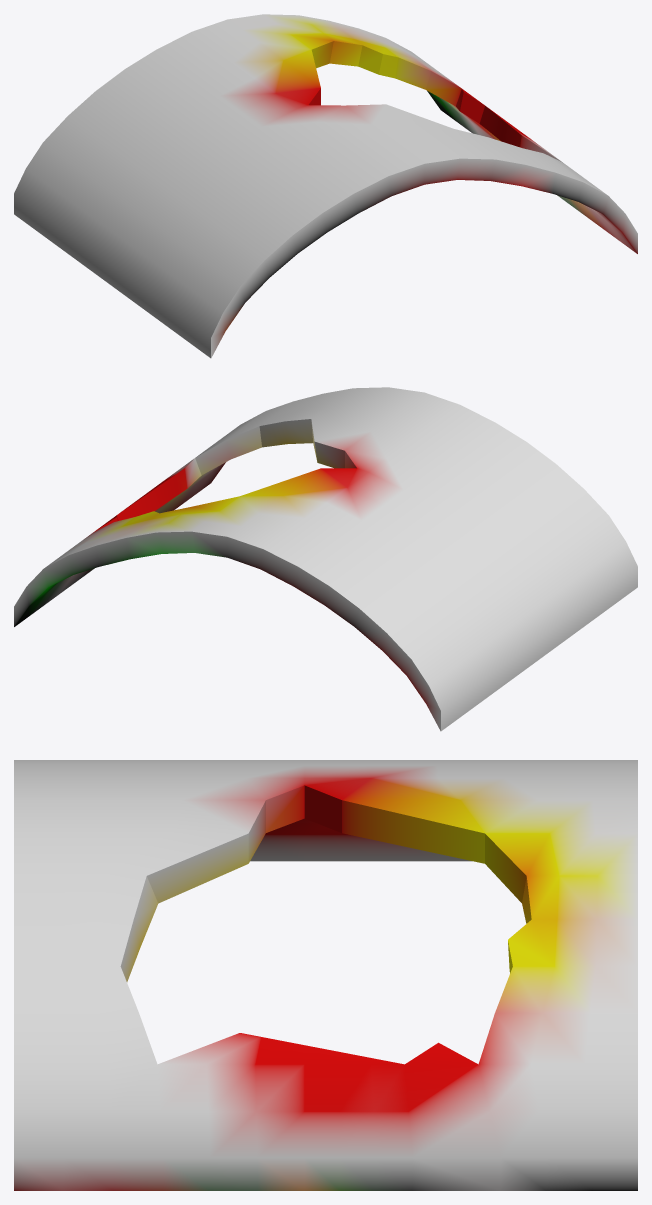
Rendered from SM_Roof_Arc_Crypt_Var_01.fbx.
The picture shows the model from 3 angles, top to bottom: view 1: azimuth 30°, elevation 25°; view 2: azimuth 150°, elevation 25°; view 3: azimuth 270°, elevation 25°; orthographic projection. The views are drawn at different scales.
Visible parts, largest first — view 1: SM_Roof_Arc_Crypt_Var_01_LOD0; view 2: SM_Roof_Arc_Crypt_Var_01_LOD0; view 3: SM_Roof_Arc_Crypt_Var_01_LOD0.
Part boxes in pixels (<box>): SM_Roof_Arc_Crypt_Var_01_LOD0: <box>14,14,637,358</box>; SM_Roof_Arc_Crypt_Var_01_LOD0: <box>14,387,637,731</box>; SM_Roof_Arc_Crypt_Var_01_LOD0: <box>14,760,637,1190</box>.
Size of the model in its own units: 500 by 400 by 160.
